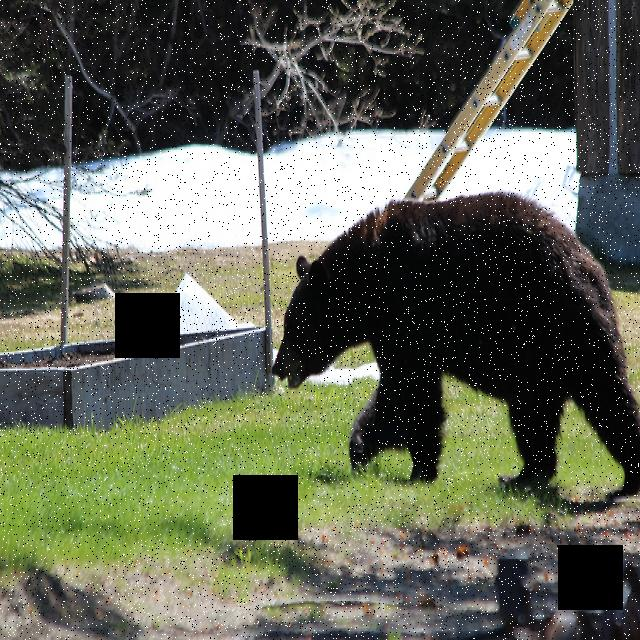Bear: (276, 181, 640, 517)
